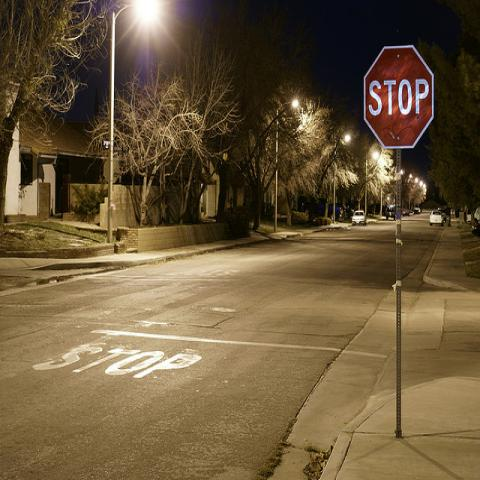car: (429, 211, 444, 226), (352, 211, 366, 226), (386, 205, 396, 221), (466, 208, 472, 224), (474, 206, 479, 224), (413, 210, 421, 215)
